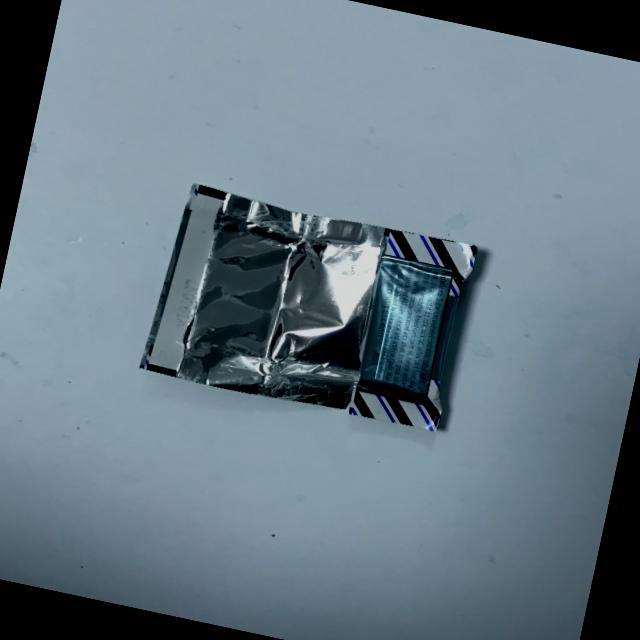plastic: (114, 146, 545, 482)
